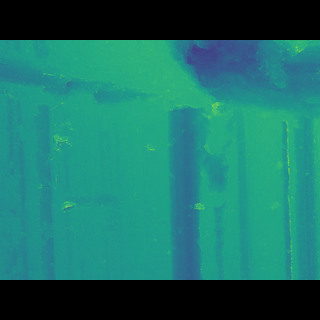Loch: (0, 69, 320, 136), (0, 179, 149, 222), (189, 122, 242, 240), (251, 153, 305, 195)
